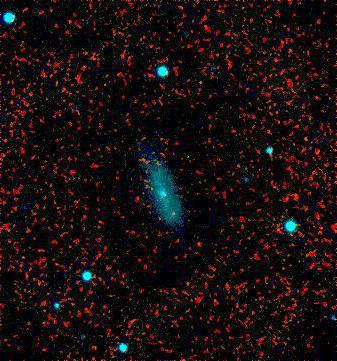star: (175, 140, 205, 170)
